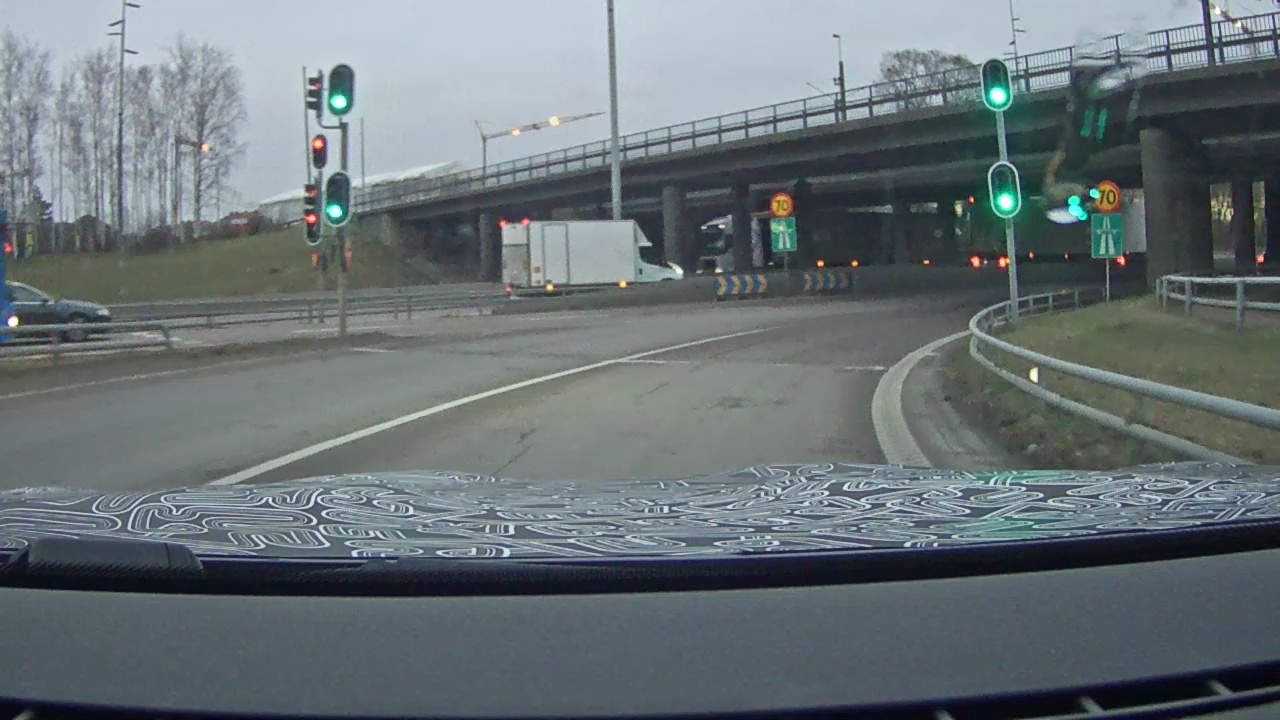Motorway_Begin: (1092, 212, 1125, 260)
